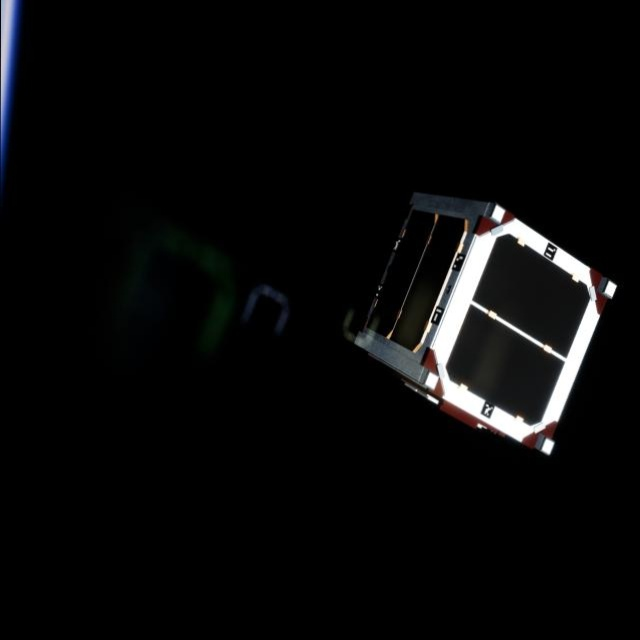satellite: (343, 193, 623, 460)
